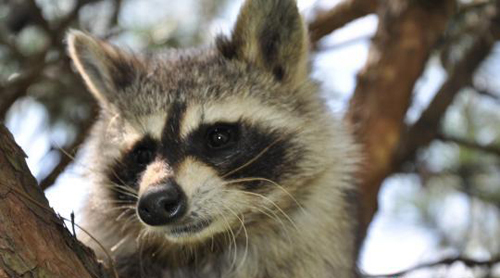raccoon: (47, 1, 365, 278)
